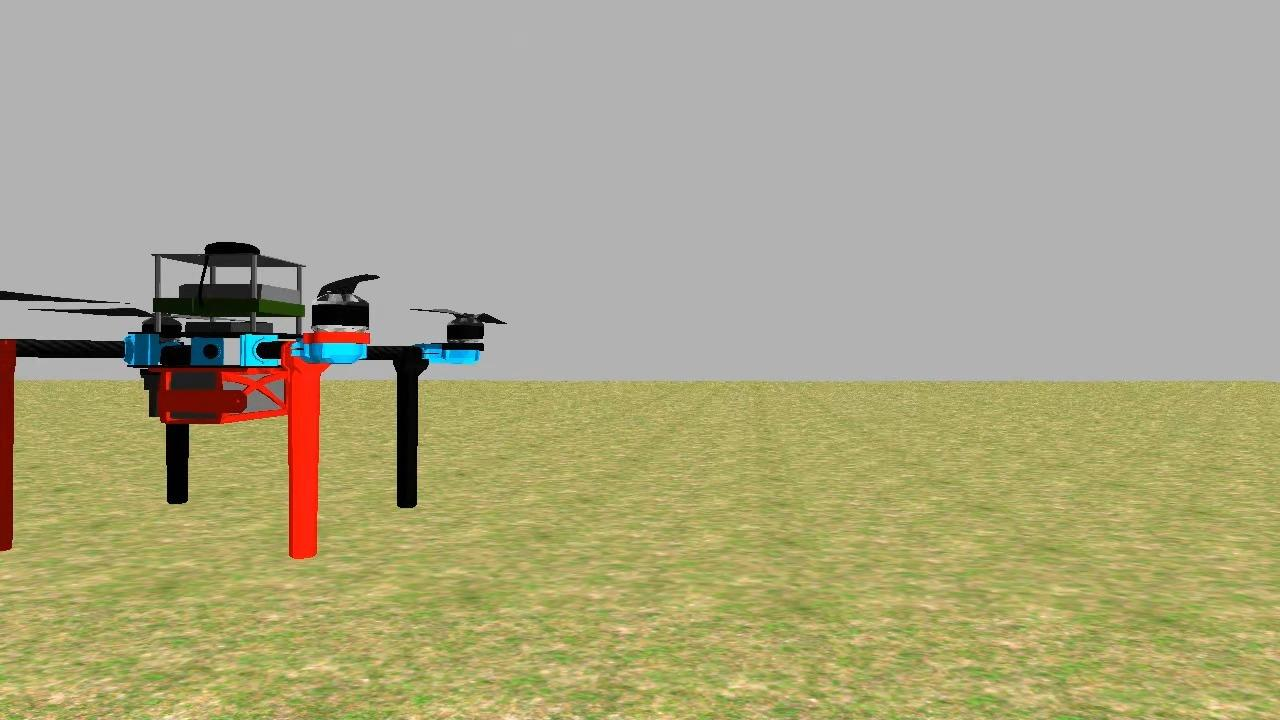UAV: (1, 234, 498, 574)
